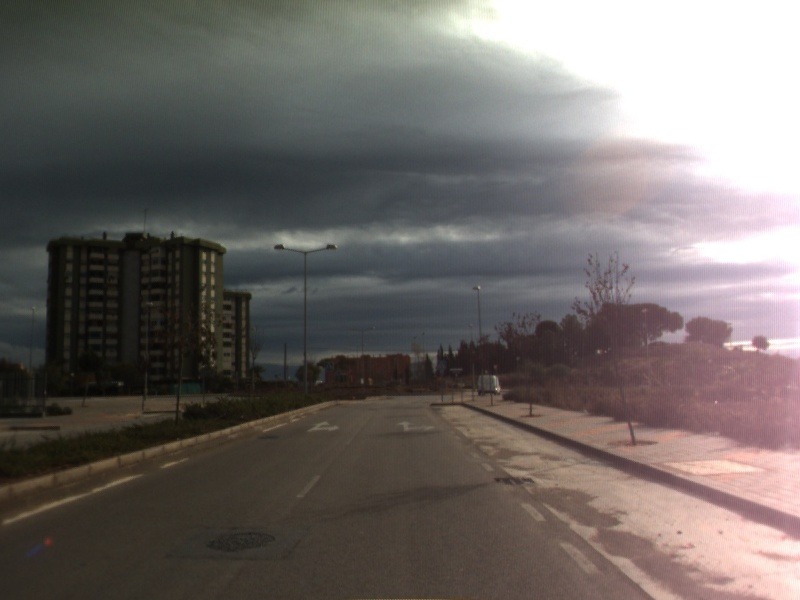STRAIGHT_RIGHT: (394, 418, 437, 434), (305, 419, 341, 434)
